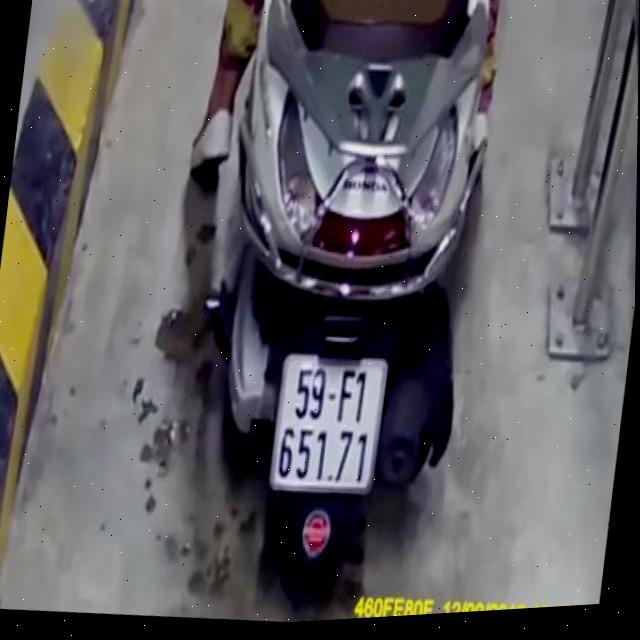motorcycle: (176, 0, 513, 610)
plate: (258, 340, 394, 503)
